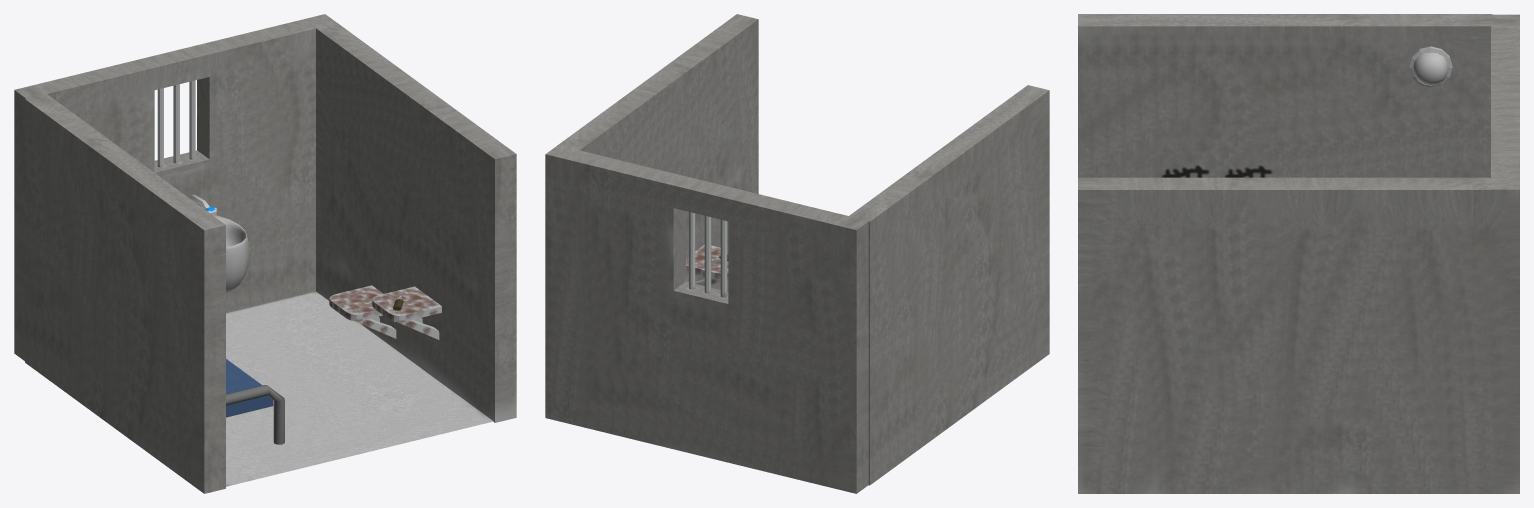
3 renders of one model, left to right at view 1: azimuth 30°, elevation 25°; view 2: azimuth 150°, elevation 25°; view 3: azimuth 270°, elevation 25°, orthographic. The views are drawn at different scales.
Parts seen in each view (by area): view 1: Scene_lambert1_0, Bed3, Table_1, Table_2, Sink3; view 2: Scene_lambert1_0, Table_1; view 3: Scene_lambert1_0, Security_Camera.
Part boxes in pixels (x1,y1,x2,y2): Scene_lambert1_0: [14, 14, 516, 493]; Bed3: [226, 359, 284, 444]; Table_1: [372, 286, 441, 339]; Table_2: [329, 285, 396, 338]; Sink3: [190, 194, 249, 294]; Scene_lambert1_0: [545, 14, 1049, 493]; Table_1: [686, 245, 728, 285]; Scene_lambert1_0: [1078, 14, 1519, 493]; Security_Camera: [1408, 46, 1452, 87].
Size of the model in its own units: 993 by 801 by 1055.
7 materials, 7 textured.
